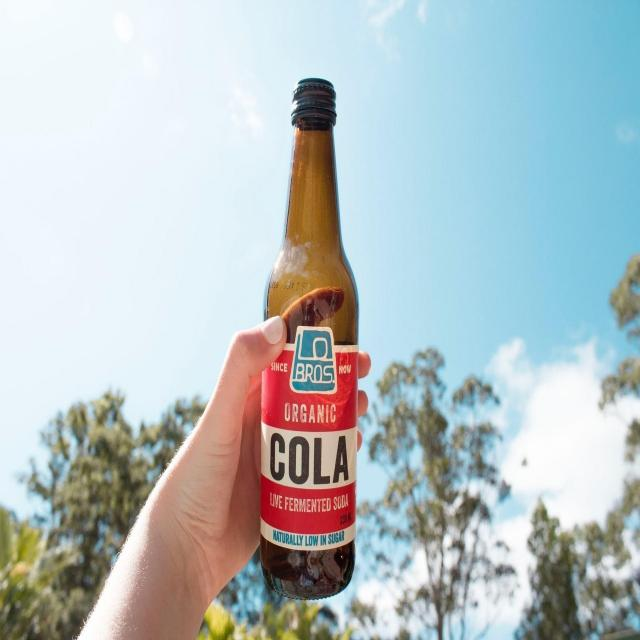bottle-glass: (256, 73, 361, 606)
